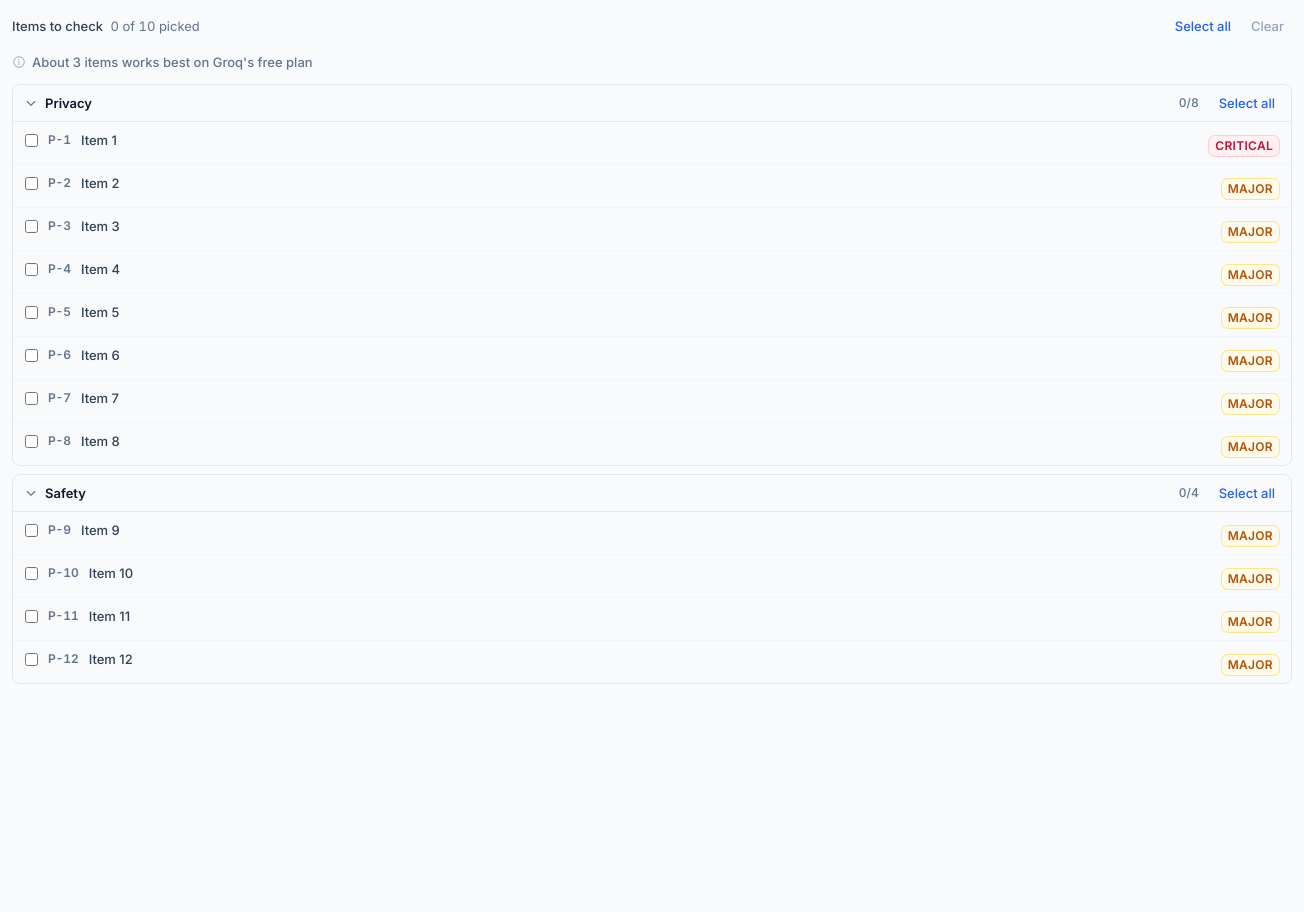
AppItemPicker › Select all stops at the limit and shows the cap note
This screenshot has width=1304, height=912.
Click the button "Select all" in the row of "picked".
click(1203, 26)  # box top-left (1167, 12), bottom-right (1239, 40)
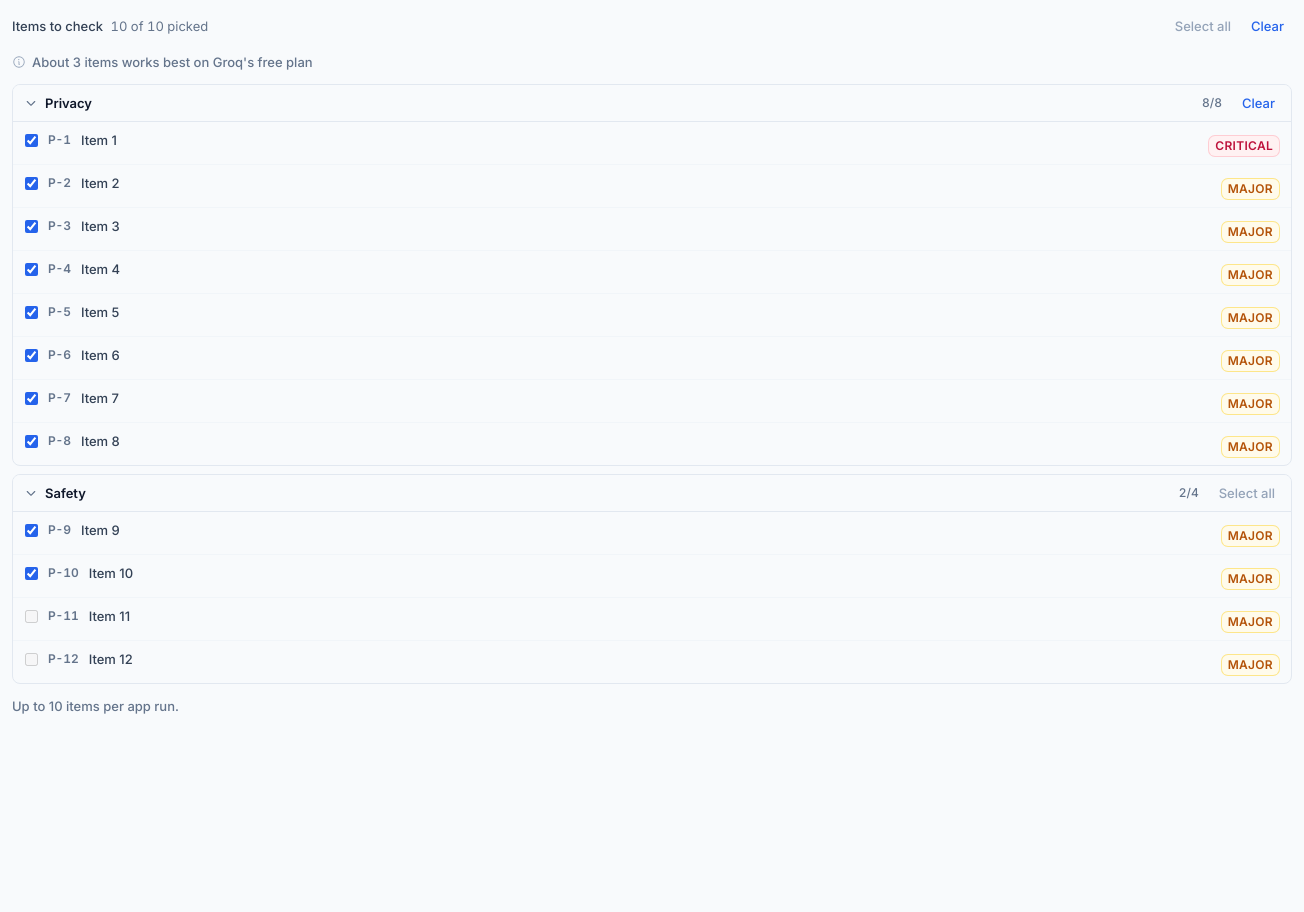
Expected: the text "10 of 10 picked" is shown, top-left (110, 18), bottom-right (208, 34)
Expected: the checkbox labelled "Item 10" is checked, top-left (25, 567), bottom-right (38, 580)
Expected: the checkbox labelled "Item 11" is disabled, top-left (25, 610), bottom-right (38, 623)
